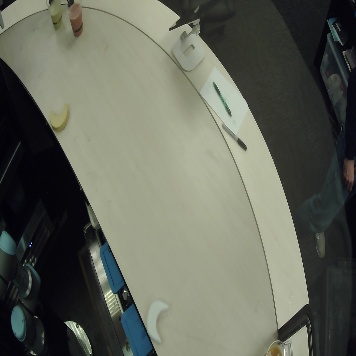full_cup: (66, 1, 89, 44), (42, 1, 65, 44), (258, 335, 300, 355)
puck: (141, 295, 173, 343), (46, 100, 75, 136)
